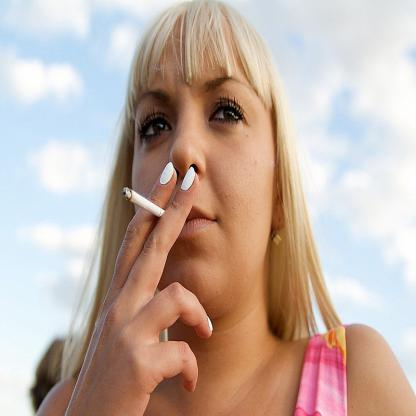smoking: (123, 186, 166, 218)
